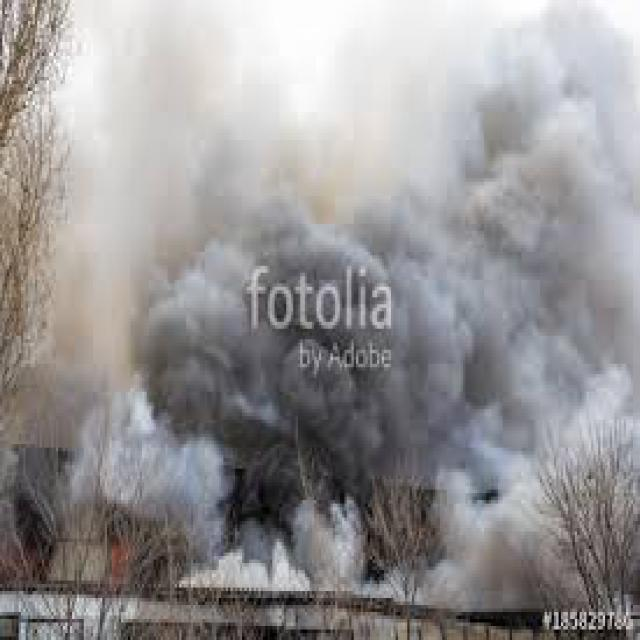smoke: (53, 49, 638, 588)
